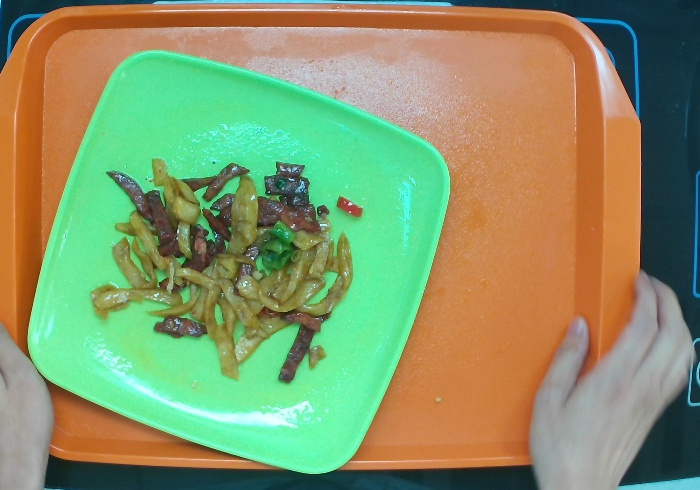ZNLD-Lv_Fang_Pan: (22, 41, 466, 481)
